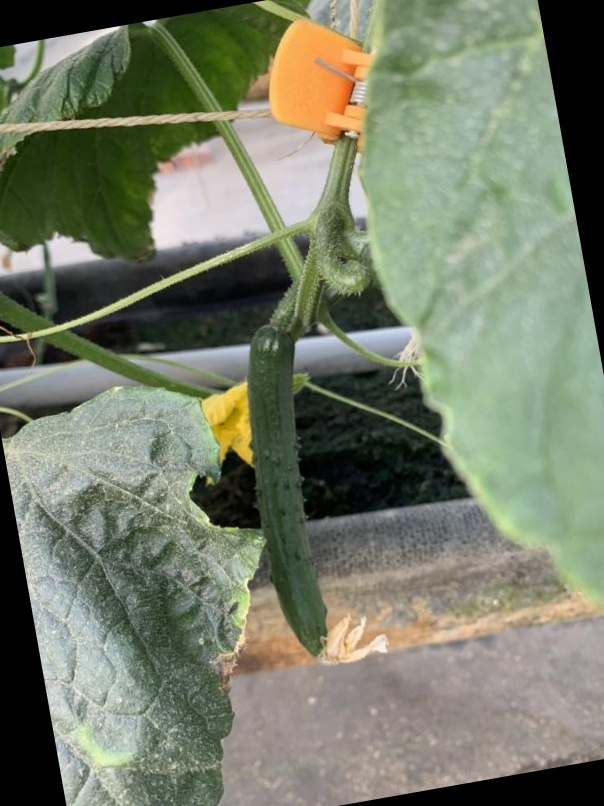mature: (237, 322, 333, 661)
